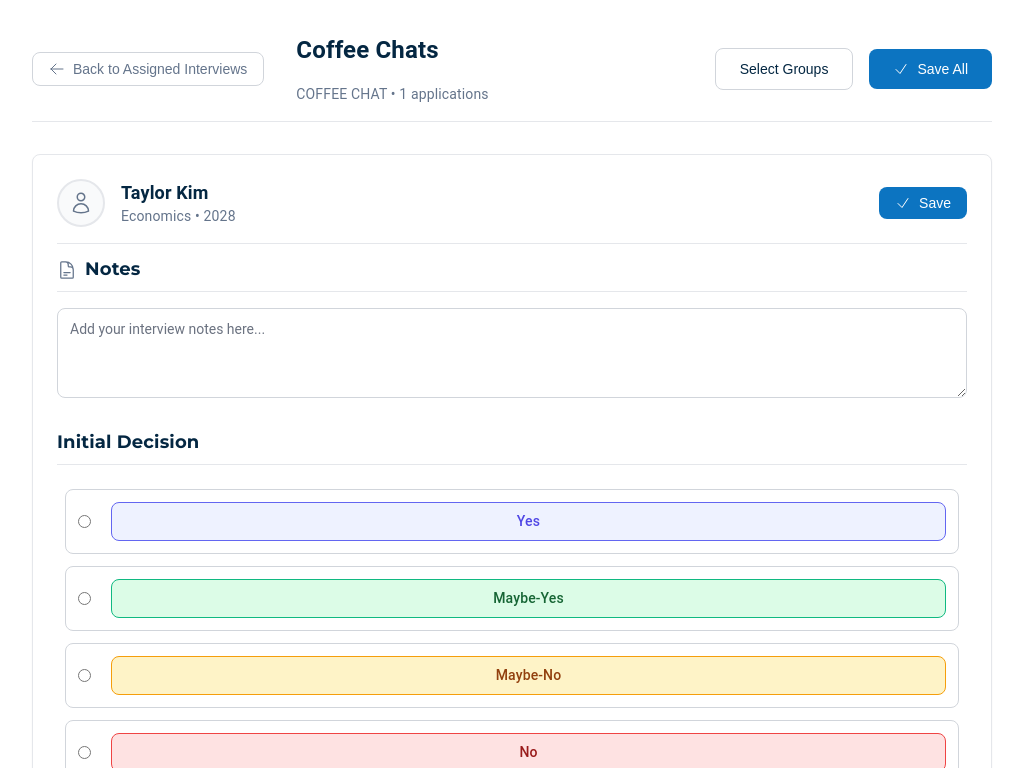
MemberInterviewInterface › offers this member's sessions under Interview Another Group
The image size is (1024, 768).
Expected: the heading "Taylor Kim" is shown, top-left (121, 182), bottom-right (208, 203)
Click the button "Save All".
click(931, 68)  # box top-left (869, 48), bottom-right (992, 88)
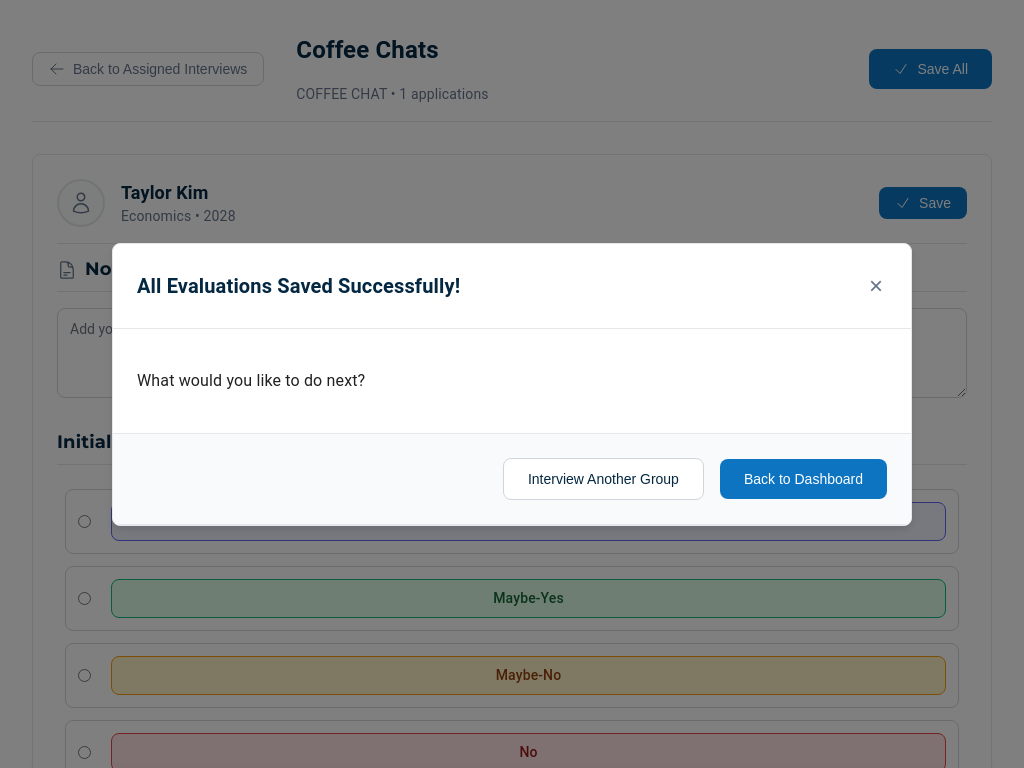
Click the button "Interview Another Group".
click(603, 478)  # box top-left (503, 458), bottom-right (704, 500)
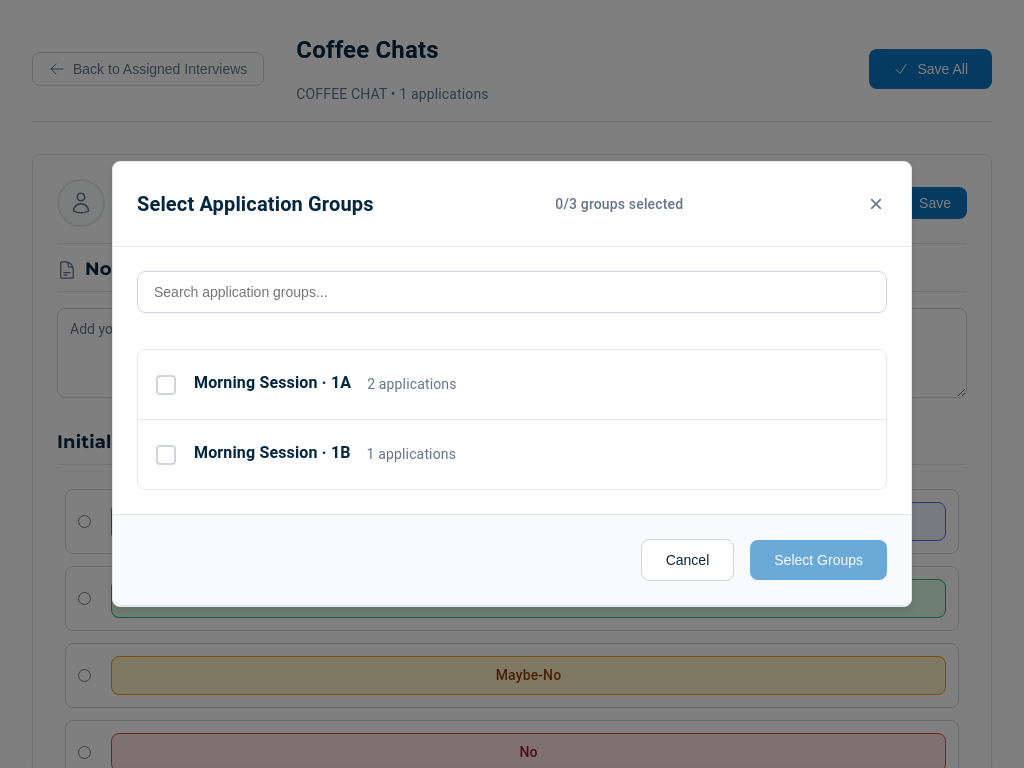
Result: the heading "Morning Session · 1A" is shown at top-left (194, 370), bottom-right (351, 394)
Result: the heading "Morning Session · 1B" is shown at top-left (194, 440), bottom-right (351, 464)
